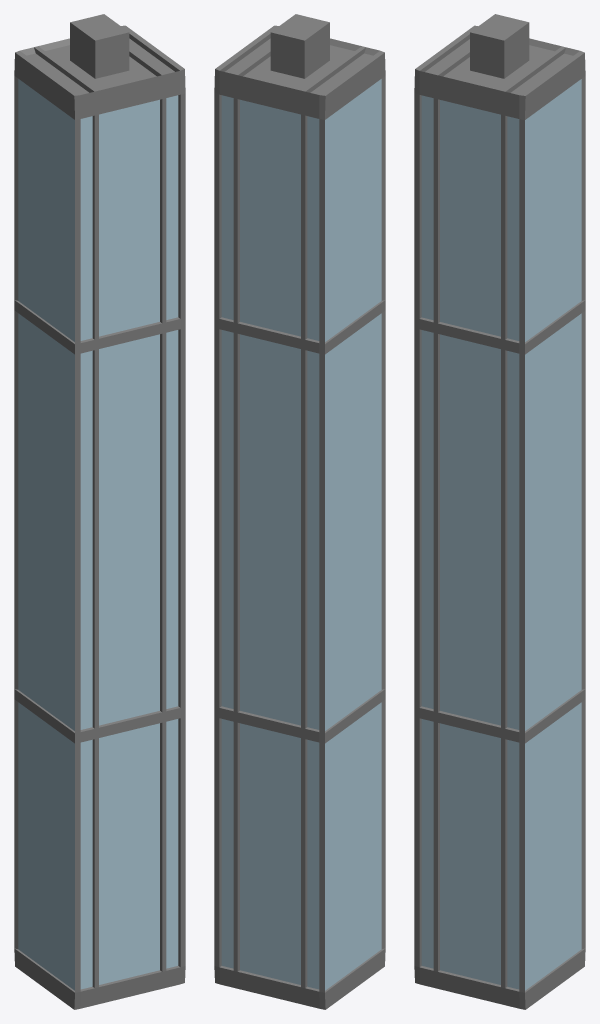
The model's file is skyscraper_10.fbx.
The picture shows the model from 3 angles, left to right: view 1: azimuth 30°, elevation 25°; view 2: azimuth 150°, elevation 25°; view 3: azimuth 330°, elevation 25°; orthographic projection.
Parts seen in each view (by area): view 1: skyscraper2; view 2: skyscraper2; view 3: skyscraper2.
Part boxes in pixels (box(x1,y1,x2,y2)): skyscraper2: box(14, 14, 185, 1009); skyscraper2: box(214, 14, 385, 1009); skyscraper2: box(414, 14, 585, 1009).
Size of the model in its own units: 1145 by 9376 by 1098.
